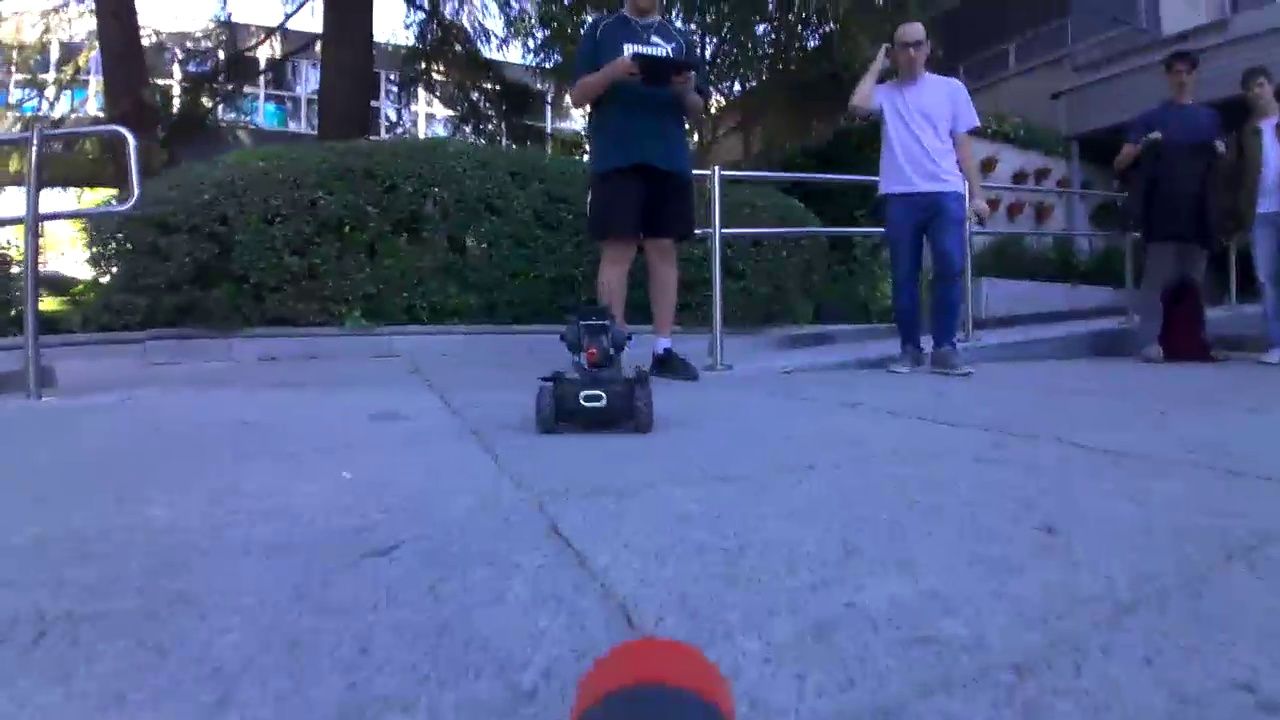robot: (537, 322, 658, 439)
